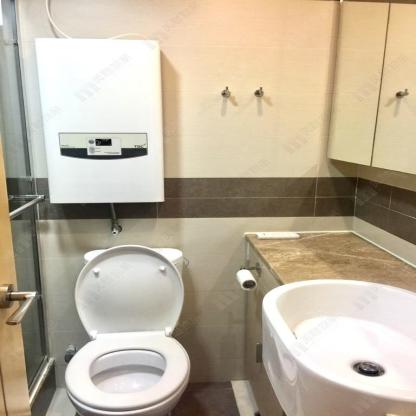Toilet: (62, 242, 192, 415)
Toilet Sink: (260, 276, 415, 416)
Water Heater: (36, 36, 166, 205)
